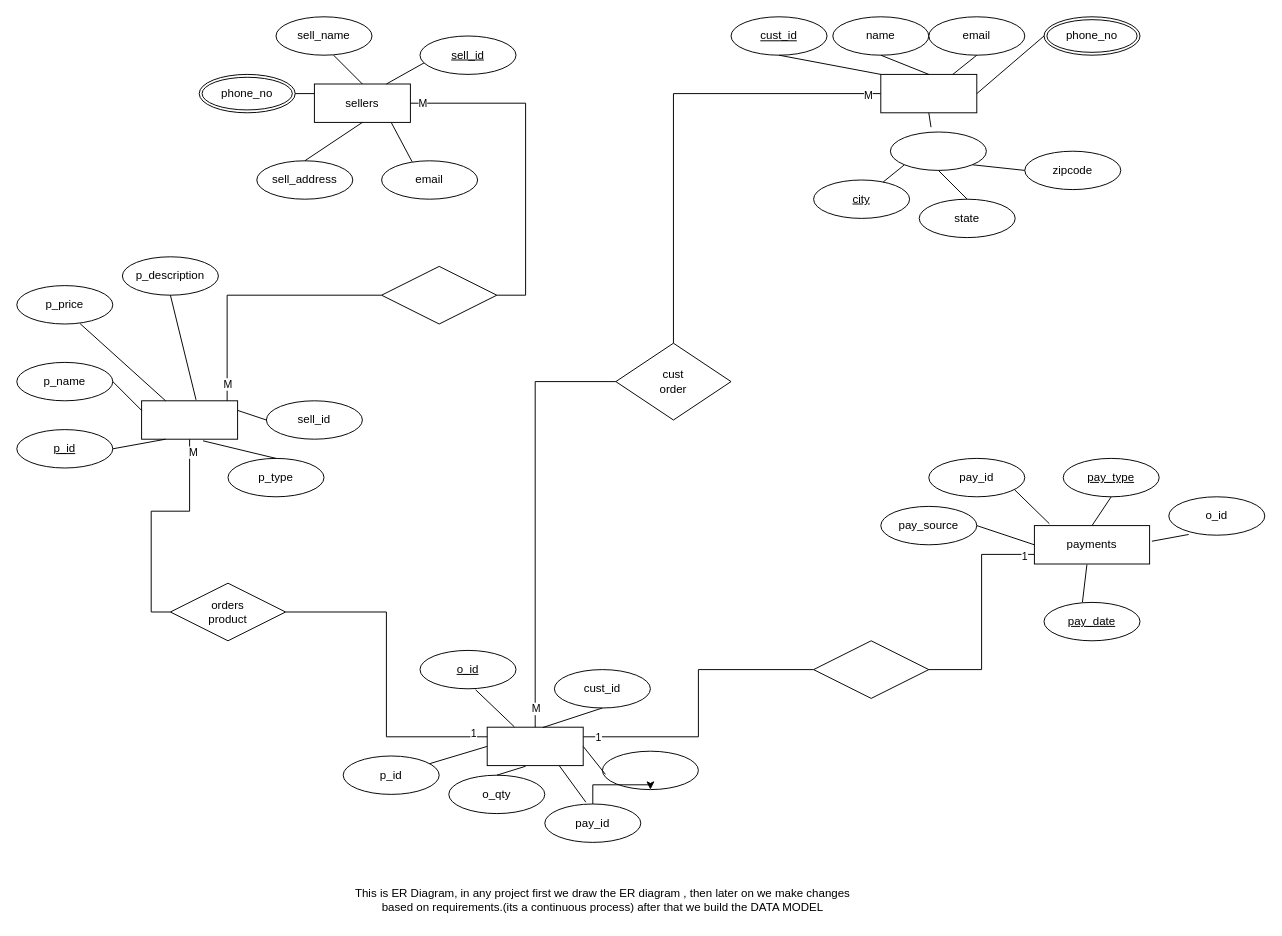
The diagram is 1282 pixels wide and 936 high, and some of its shapes have lost their labels. Here are the shapes that lost their labels. From the top down, the centre of each, then its label:
the point at 928,93: customers
the point at 937,150: address
the point at 439,294: sells product
the point at 189,419: products
the point at 871,669: order payment
the point at 534,746: orders
the point at 649,770: o_date
